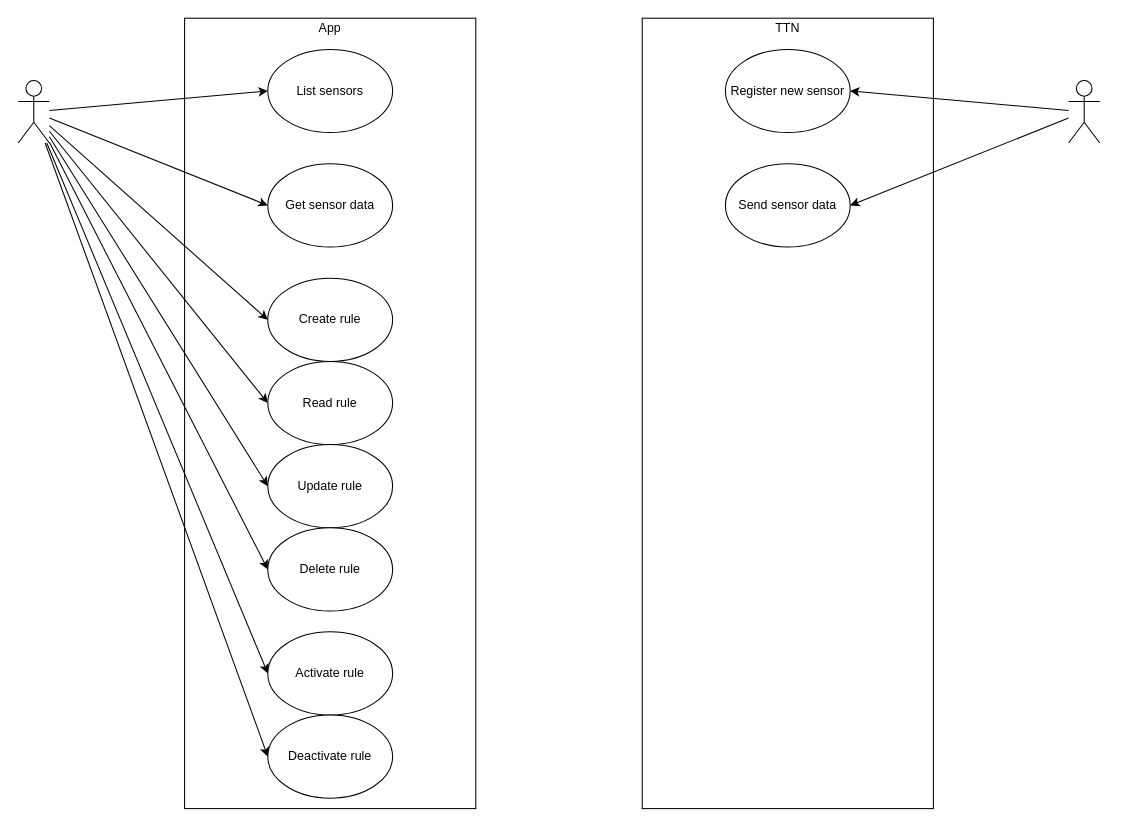
The diagram is 1137 pixels wide and 827 high, and some of its shapes have lost their labels. Each missing label, with the centre of its shape:
<<service>> Sensor: the point at 1084,111
User: the point at 33,111
